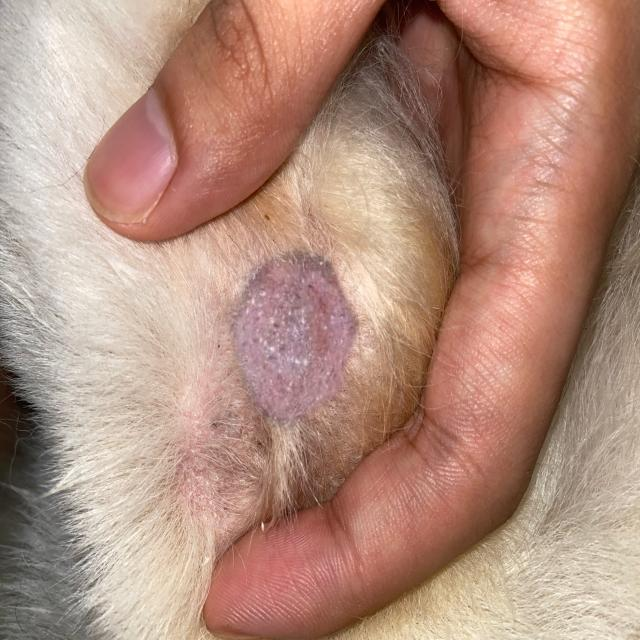ringworm: (221, 254, 389, 431)
